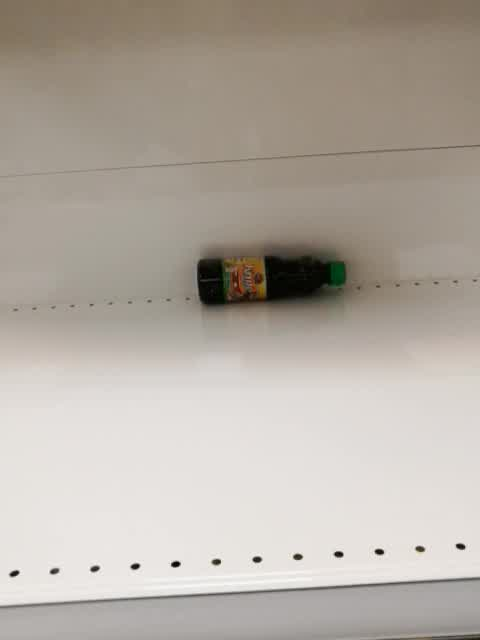cookingoil: (194, 253, 349, 307)
